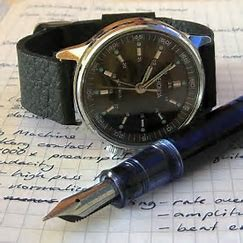pen: (31, 107, 243, 231)
